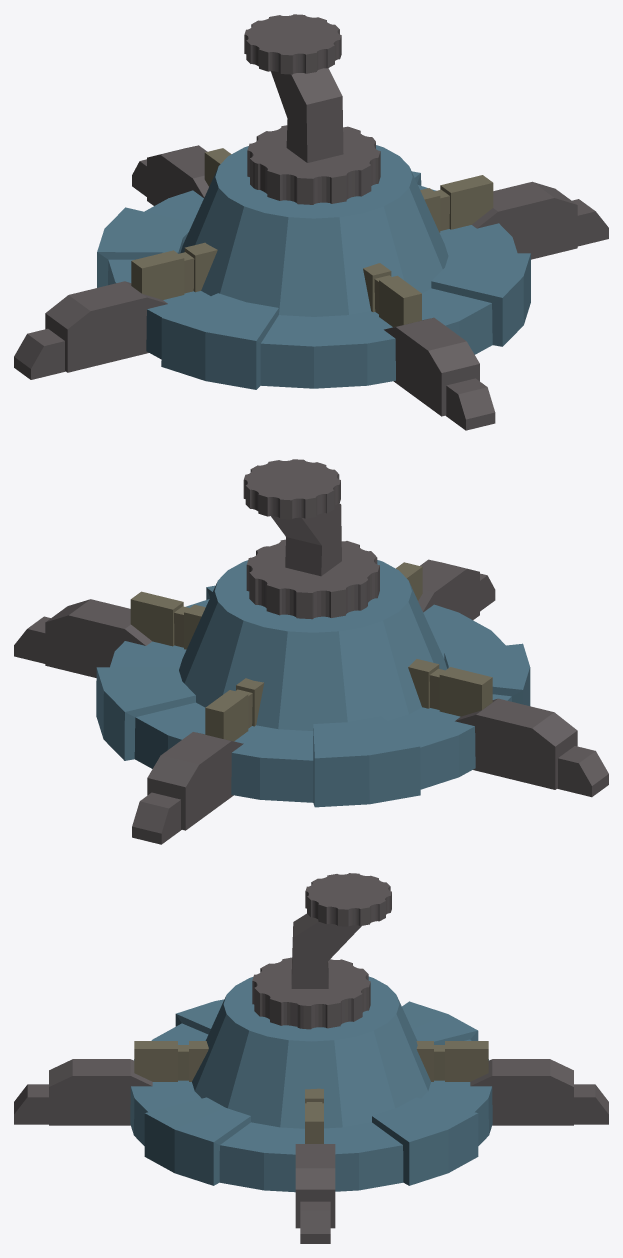
The model's file is BaseGunDown.fbx.
3 renders of one model, top to bottom at view 1: azimuth 30°, elevation 25°; view 2: azimuth 150°, elevation 25°; view 3: azimuth 270°, elevation 25°, orthographic. The views are drawn at different scales.
Visible parts, largest first — view 1: Cube; view 2: Cube; view 3: Cube.
Part boxes in pixels (x1,y1,x2,y2): Cube: [14, 14, 608, 430]; Cube: [14, 459, 608, 844]; Cube: [14, 873, 608, 1243].
Size of the model in its own units: 565 by 238 by 566.
